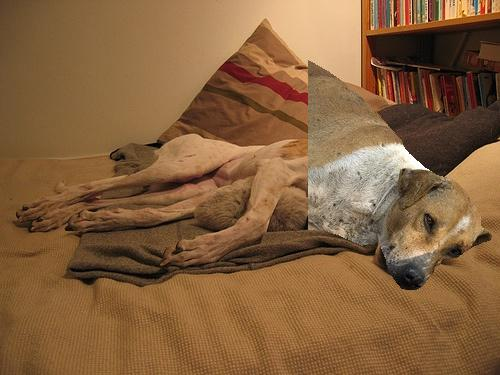tampered: (309, 61, 492, 290)
